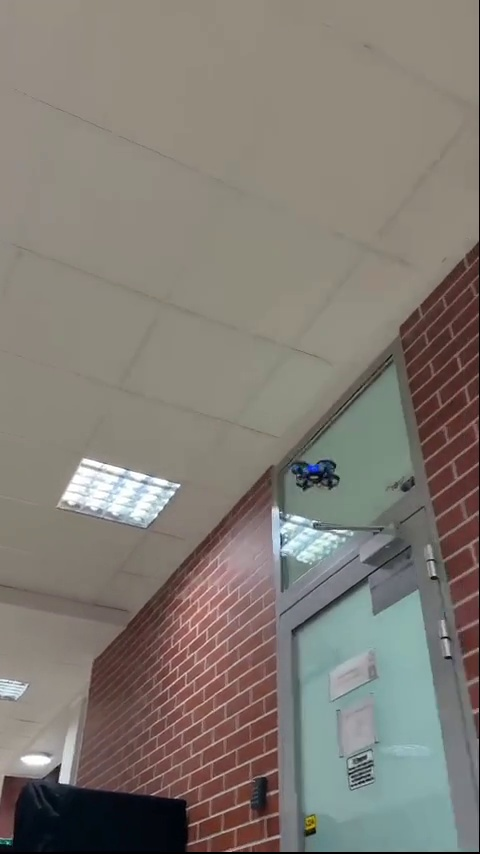drone: (288, 458, 343, 487)
